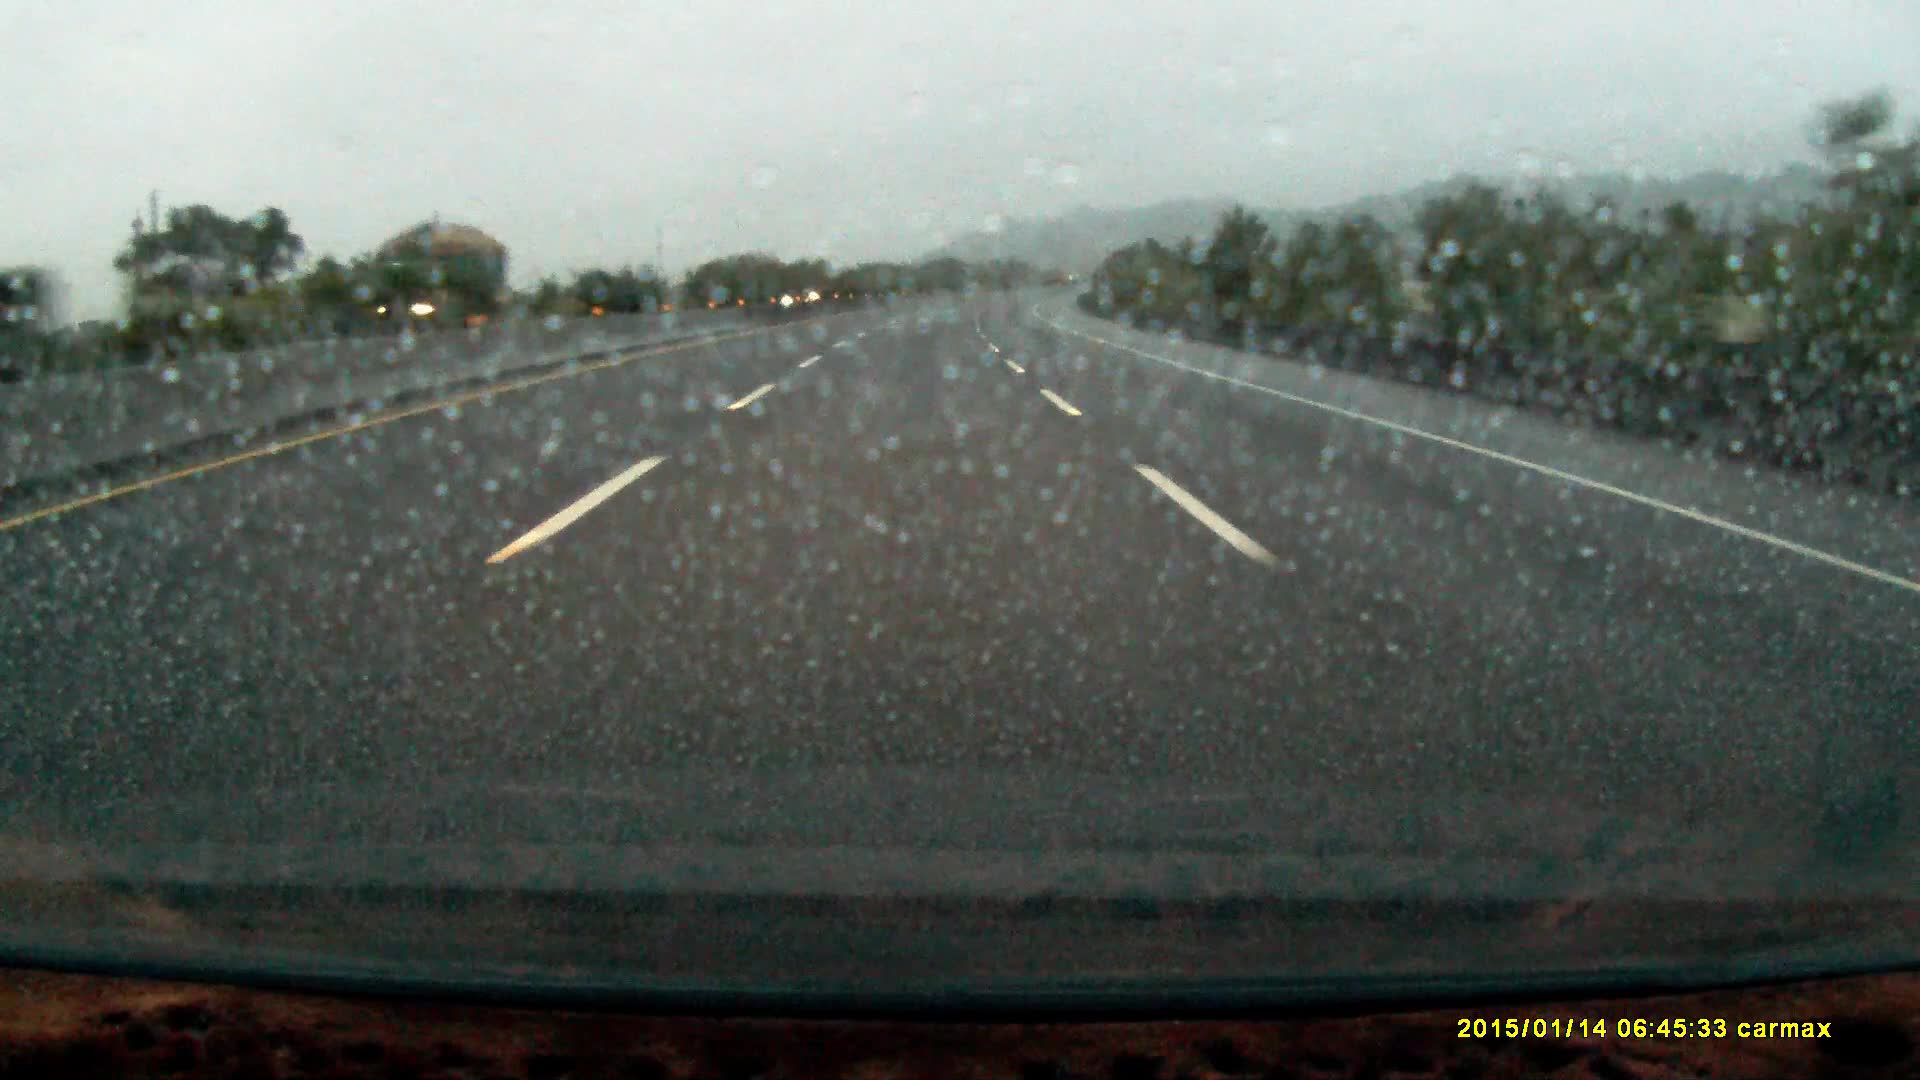vehicle: (377, 222, 510, 328)
